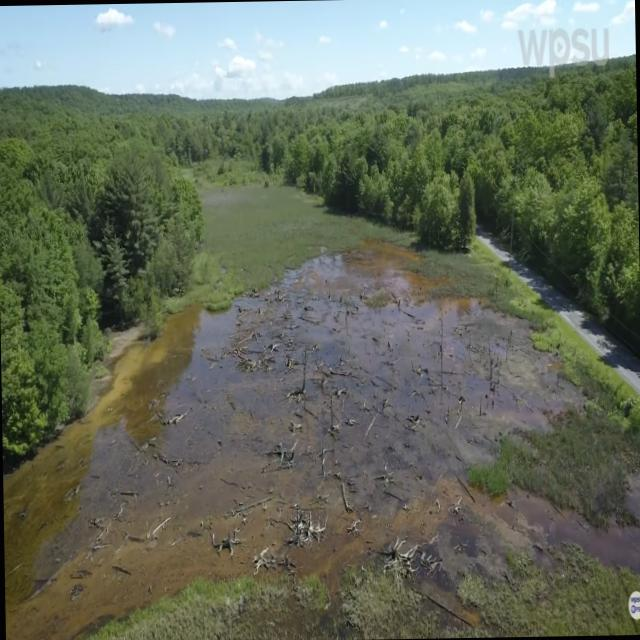yellow_boy: (3, 240, 640, 640)
